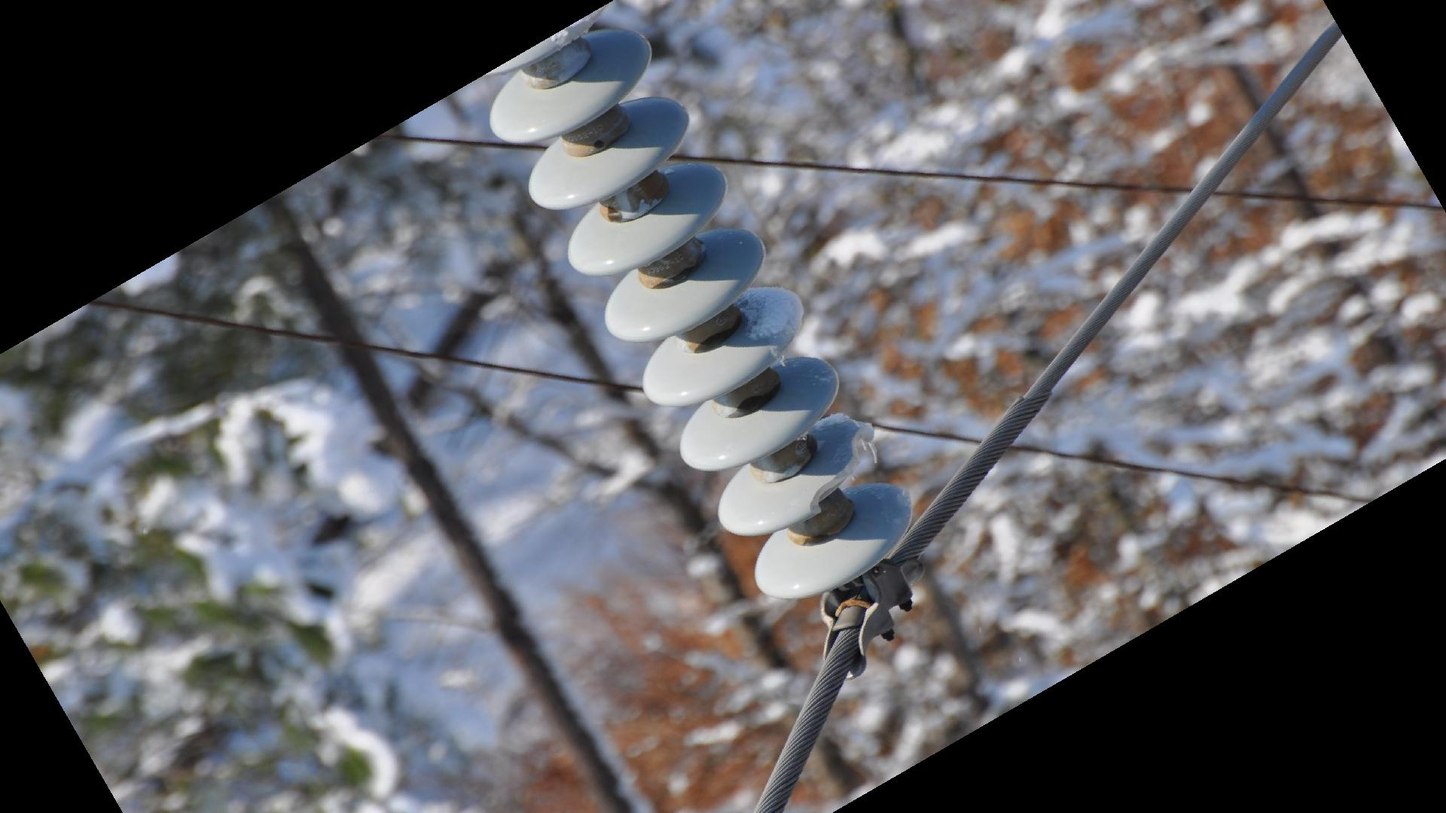insulator: (476, 11, 920, 607)
insulator_breakage: (803, 408, 878, 522)
